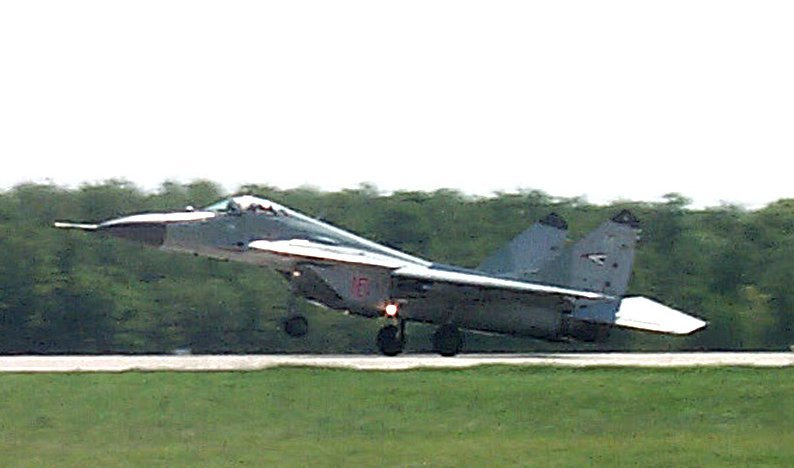Mig-29: (59, 162, 699, 382)
